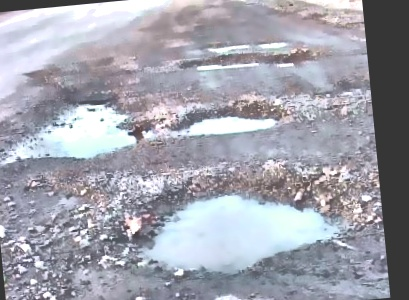pothole: (103, 153, 366, 287), (30, 91, 152, 164), (165, 99, 283, 139), (177, 46, 315, 78), (201, 35, 297, 53)
